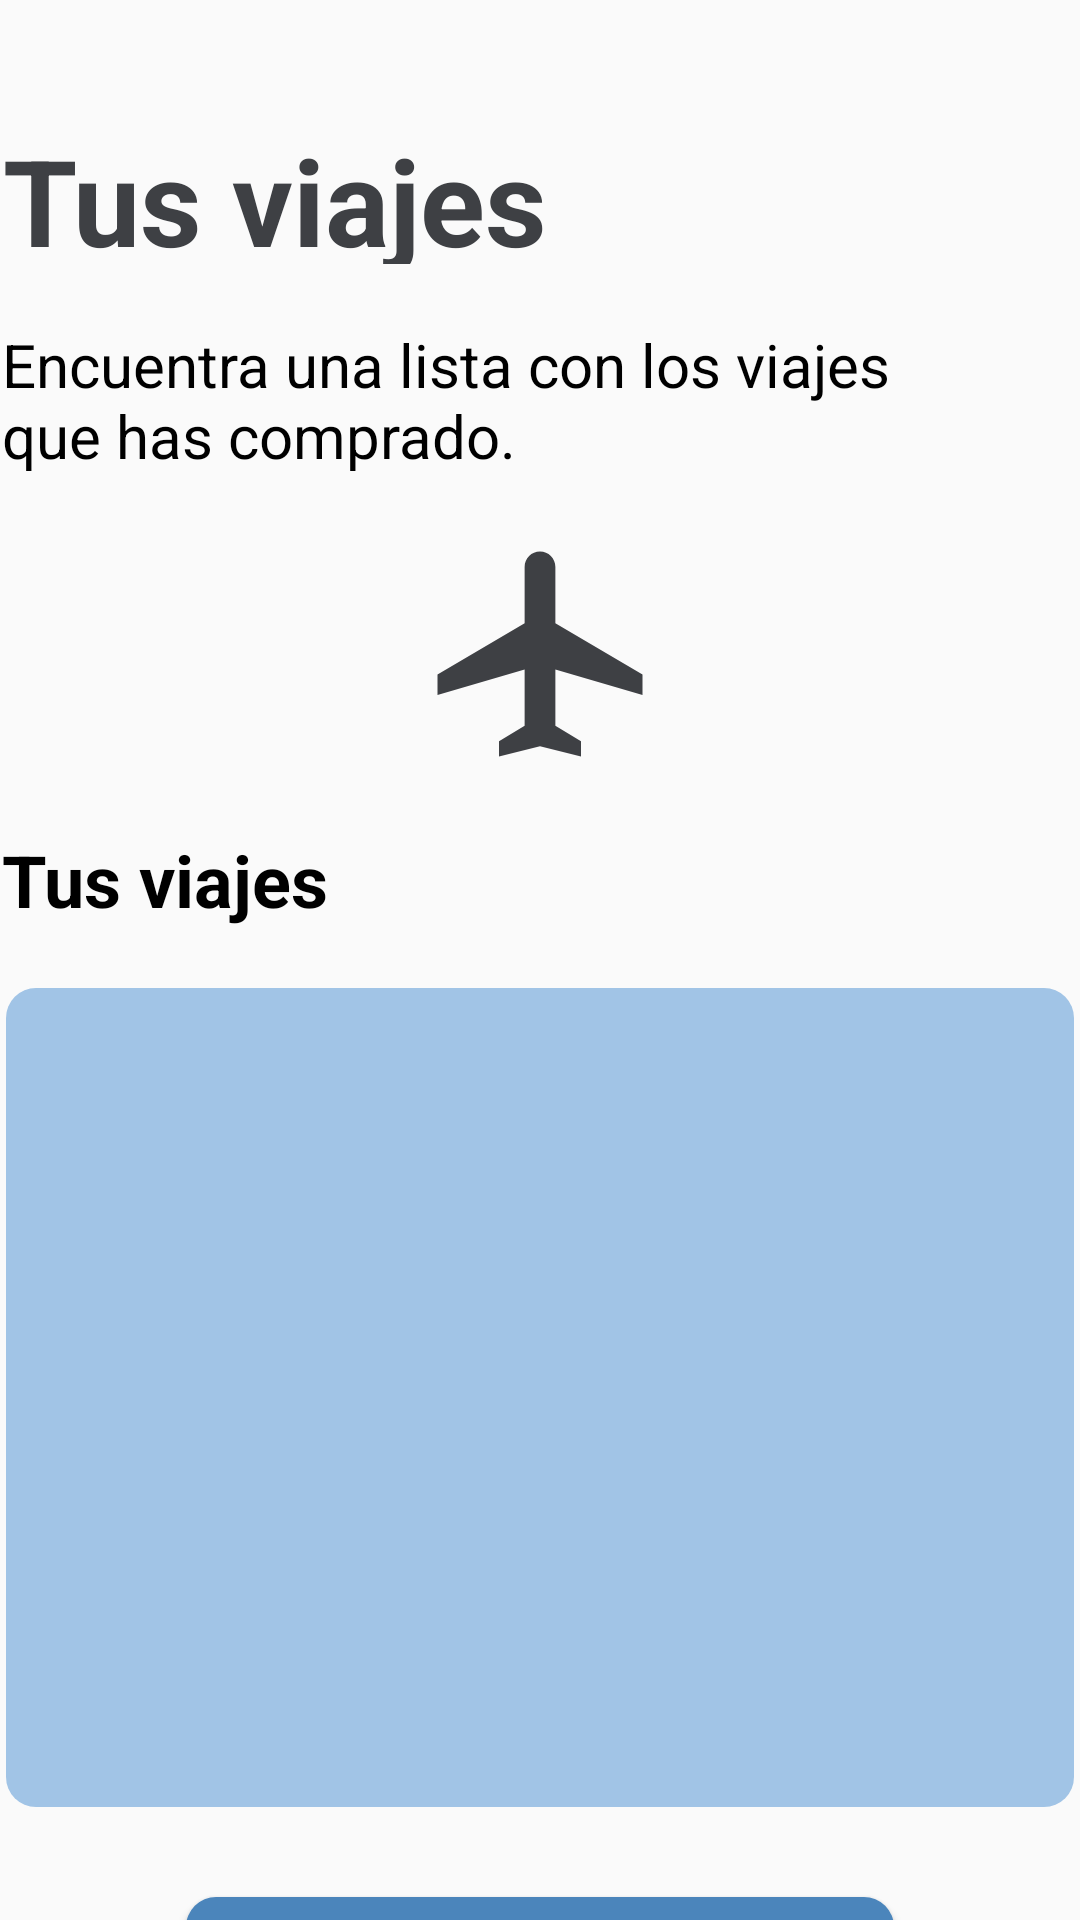

Where to tap for icons on this 1080*1920 app screen, as [x,y]:
local airport: [540,654]
